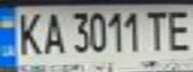0: (87, 9, 106, 54)
1: (121, 8, 145, 52), (106, 8, 127, 53)
3: (66, 8, 90, 54)
A: (39, 9, 66, 56)
E: (163, 7, 193, 53)
K: (9, 9, 45, 57)
T: (142, 7, 172, 52)
